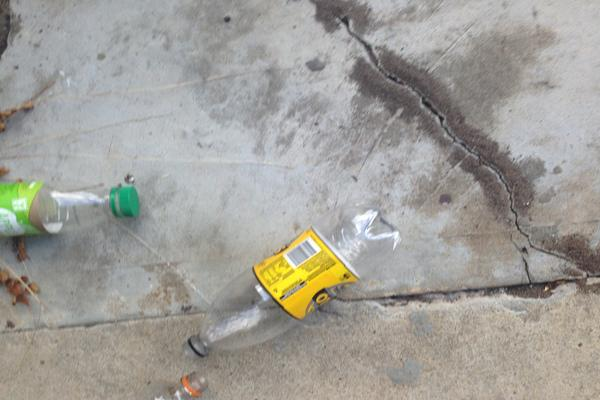Plastic Bottle: (183, 200, 403, 362), (0, 180, 139, 236), (150, 371, 210, 400)
